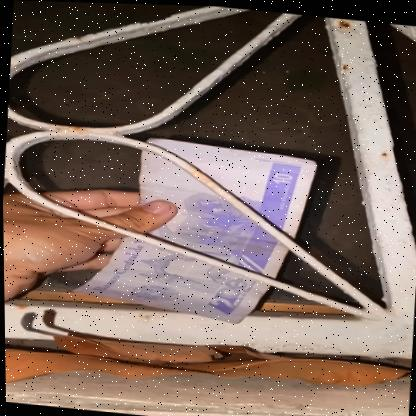ten-back-vef: (72, 133, 320, 328)
